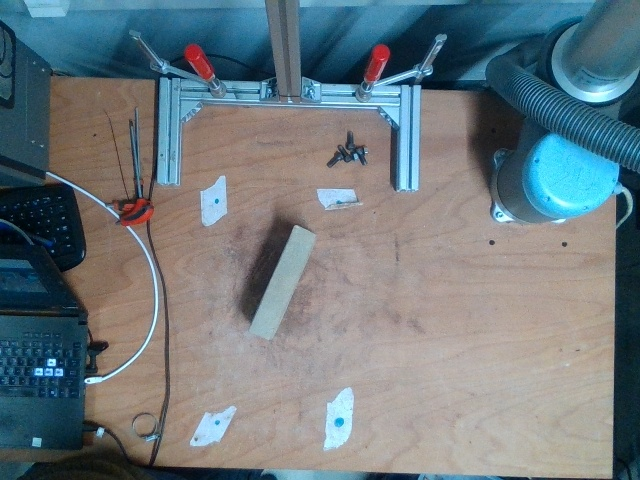brick-side: (250, 228, 316, 338)
